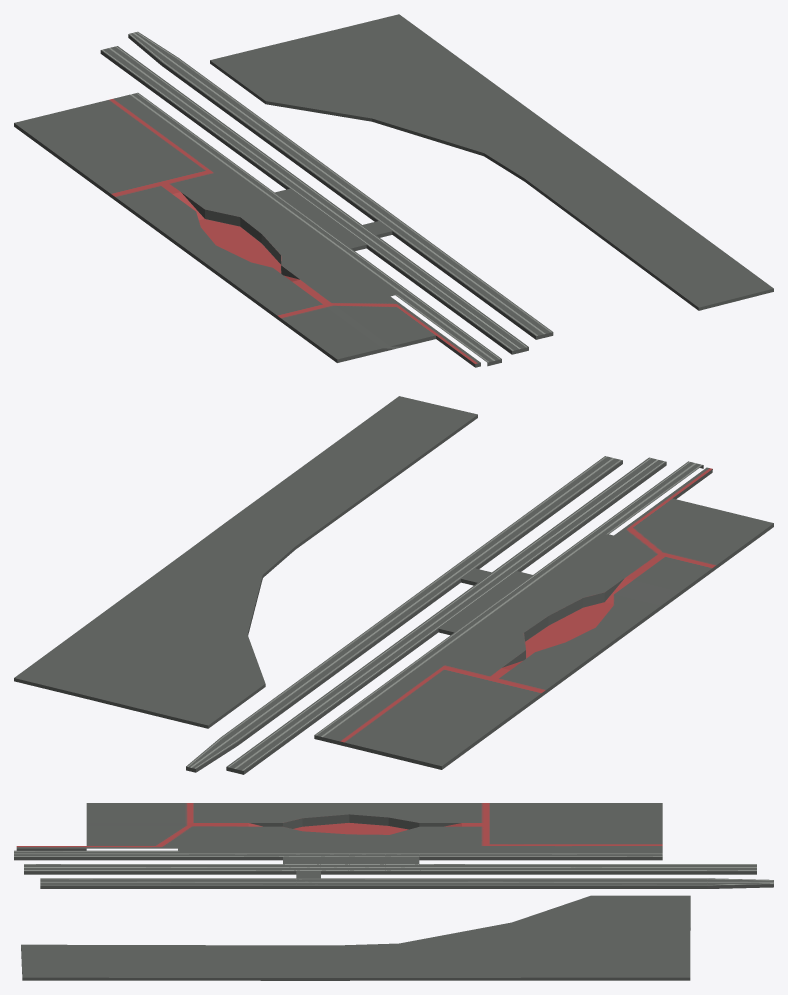
Rendered from ground.FBX.
3 views of the same model, one above another, from view 1: azimuth 30°, elevation 25°; view 2: azimuth 150°, elevation 25°; view 3: azimuth 270°, elevation 25° (orthographic). The views are drawn at different scales.
Visible parts, largest first — view 1: Box015; view 2: Box015; view 3: Box015.
Boxes of the visible parts, x1,y1,x2,y2 form: Box015: [14, 14, 773, 367]; Box015: [14, 396, 773, 774]; Box015: [14, 803, 773, 980].
Bounding box in the file's own units: 576 × 12.94 × 1060.
